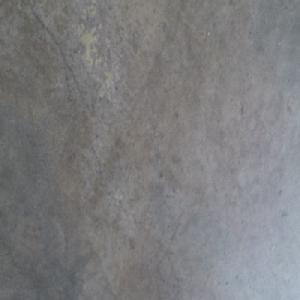Wrench: (165, 294, 172, 299)
